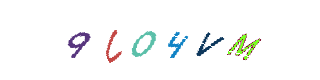4: (127, 0, 207, 80)
9: (95, 0, 175, 80)
C: (110, 0, 190, 80)
M: (204, 0, 284, 80)
O: (119, 0, 199, 80)
V: (136, 0, 216, 80)
